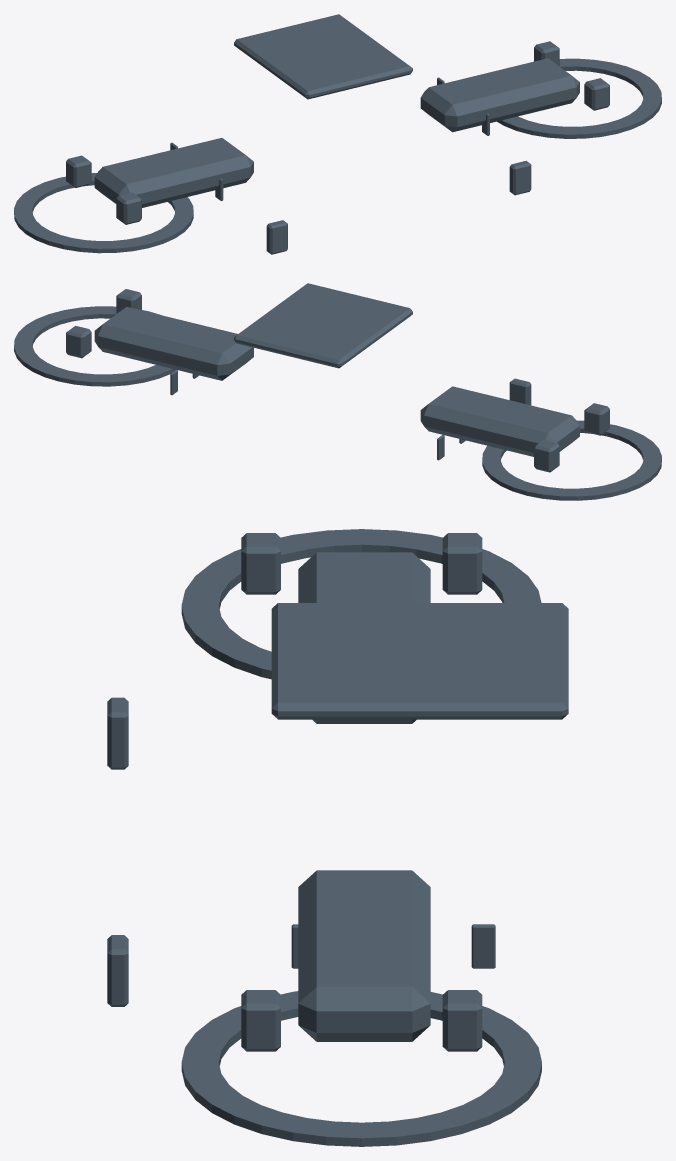
The model's file is drone_body_steel.obj.
3 renders of one model, top to bottom at view 1: azimuth 30°, elevation 25°; view 2: azimuth 150°, elevation 25°; view 3: azimuth 270°, elevation 25°, orthographic. The views are drawn at different scales.
Visible parts, largest first — view 1: part_000, part_009, part_001, part_002, part_010, part_012, part_003, part_004, part_013, part_005, part_011; view 2: part_000, part_009, part_001, part_002, part_010, part_003, part_011, part_004, part_005, part_012; view 3: part_000, part_009, part_010, part_002, part_001, part_003, part_011, part_012, part_004, part_005, part_013, part_014.
Part boxes in pixels (x1,y1,x2,y2): part_000: (234, 14, 412, 99); part_009: (420, 58, 579, 132); part_001: (94, 138, 253, 207); part_002: (14, 173, 193, 253); part_010: (497, 58, 661, 138); part_012: (584, 78, 609, 110); part_003: (66, 155, 91, 187); part_004: (116, 192, 141, 224); part_013: (509, 160, 531, 195); part_005: (266, 220, 287, 254); part_011: (534, 41, 559, 66); part_000: (234, 283, 412, 368); part_009: (94, 307, 253, 380); part_001: (420, 386, 579, 456); part_002: (482, 420, 661, 500); part_010: (14, 306, 175, 386); part_003: (534, 440, 559, 472); part_011: (66, 325, 91, 358); part_004: (584, 403, 609, 435); part_005: (509, 378, 531, 405); part_012: (116, 289, 141, 313); part_000: (271, 603, 568, 719); part_009: (298, 870, 430, 1041); part_010: (181, 991, 541, 1146); part_002: (181, 529, 541, 679); part_001: (298, 552, 430, 723); part_003: (442, 533, 482, 594); part_011: (442, 990, 482, 1051); part_012: (241, 990, 280, 1051); part_004: (241, 533, 280, 594); part_005: (107, 697, 128, 769); part_013: (107, 935, 128, 1006); part_014: (471, 924, 495, 968).
Size of the model in its own units: 2.72 by 0.4755 by 0.87.
